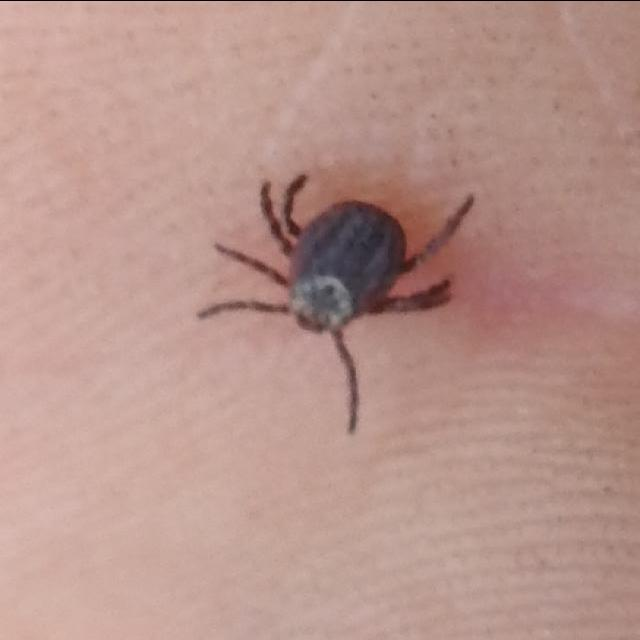Dermacentor Reticulatus-F: (198, 173, 475, 433)
